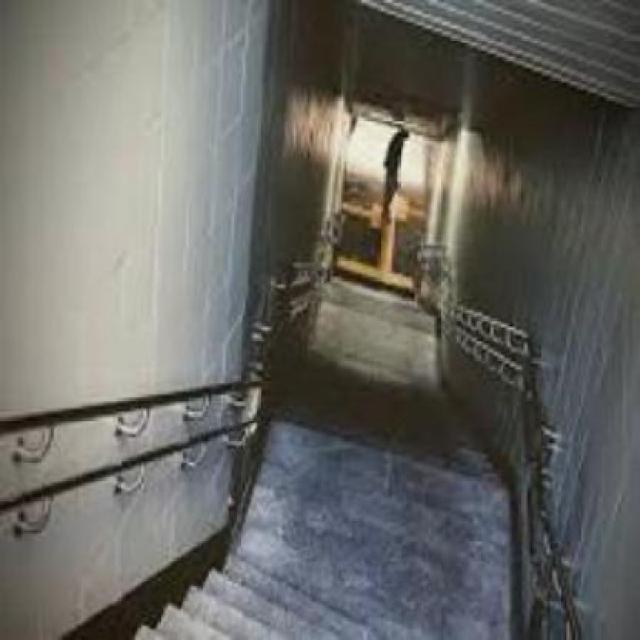stair: (268, 268, 527, 512)
